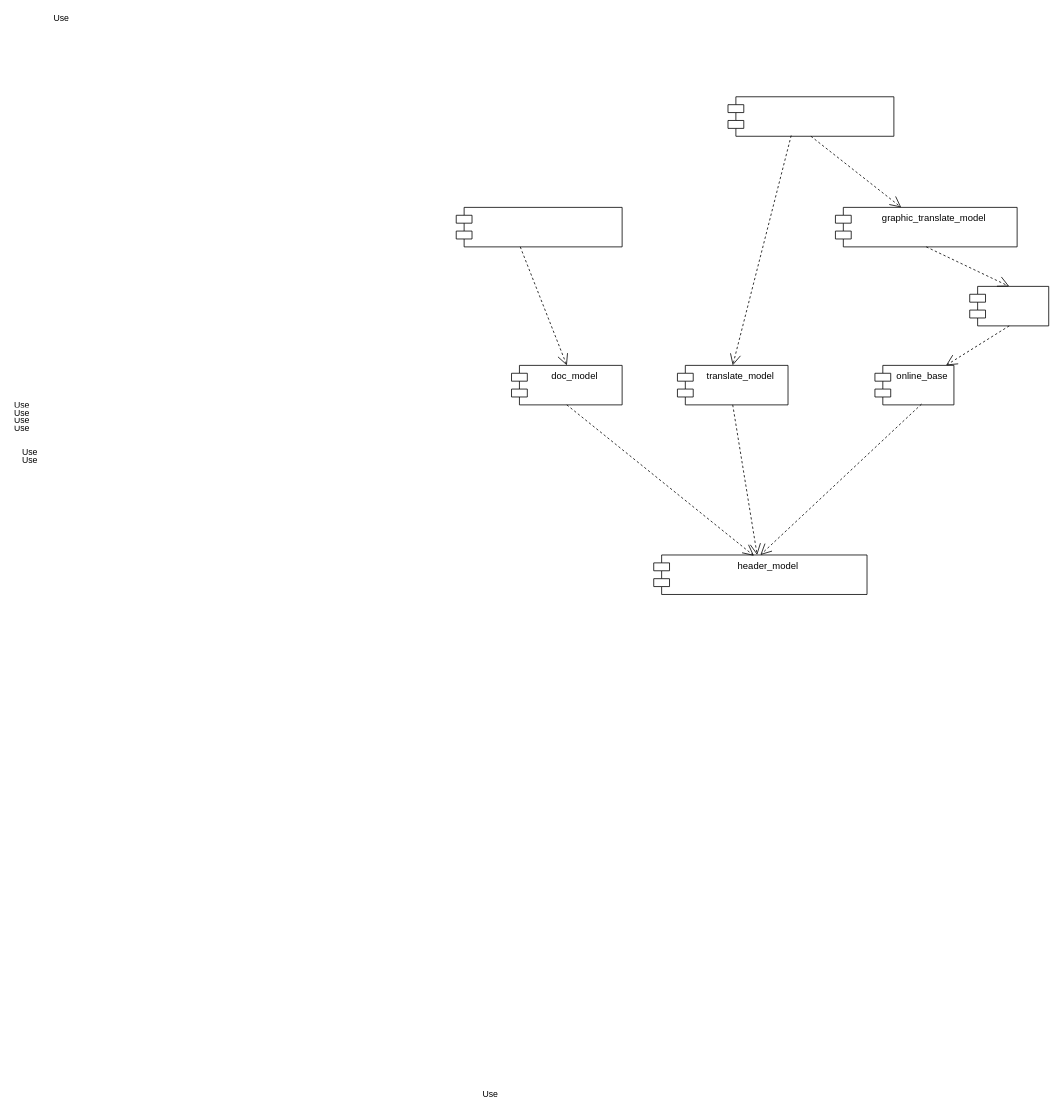
This 1063x1113 diagram has some shape labels left out. The shapes that lost their labels are listed below. From the top down, each one's box as (x1, y1, x2, y2) in pixels, then its label:
(727, 96, 894, 136): app
(455, 207, 622, 247): doc_app
(969, 286, 1049, 326): photo_online
